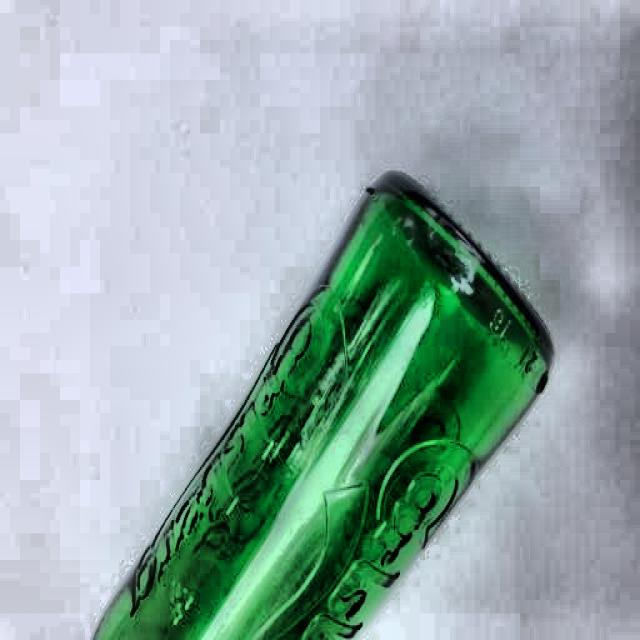glass: (94, 180, 558, 640)
